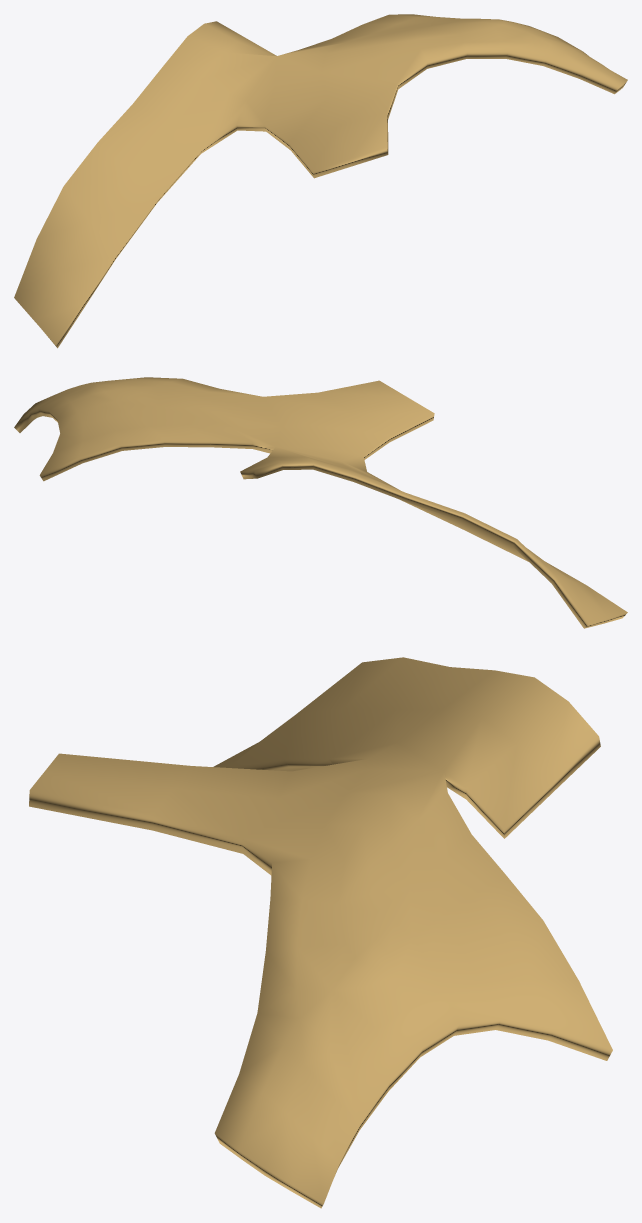
3 views of the same model, one above another, from view 1: azimuth 30°, elevation 25°; view 2: azimuth 150°, elevation 25°; view 3: azimuth 270°, elevation 25° (orthographic). The views are drawn at different scales.
Visible parts, largest first — view 1: 右侧腕骨间背侧韧带; view 2: 右侧腕骨间背侧韧带; view 3: 右侧腕骨间背侧韧带.
Boxes of the visible parts, left/top/right/bottom form: 右侧腕骨间背侧韧带: left=14, top=14, right=627, bottom=348; 右侧腕骨间背侧韧带: left=14, top=377, right=627, bottom=628; 右侧腕骨间背侧韧带: left=29, top=657, right=612, bottom=1208.
Size of the model in its own units: 0.0574 by 0.0165 by 0.0253.
